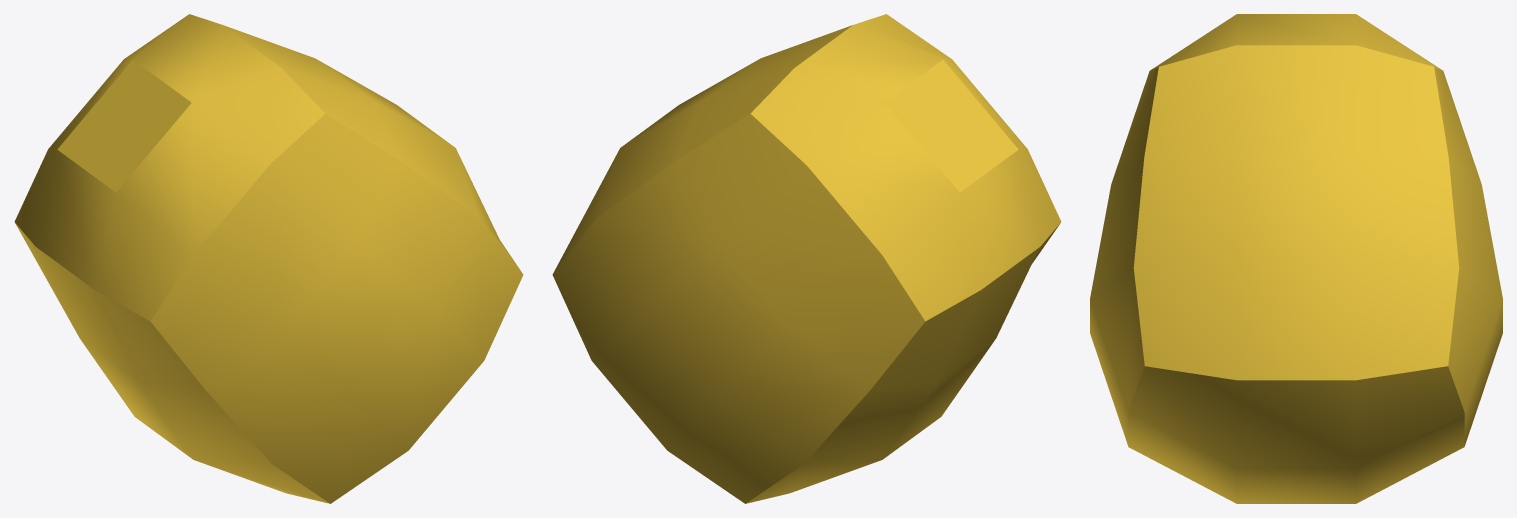
Rendered from Corn.fbx.
The picture shows the model from 3 angles, left to right: view 1: azimuth 30°, elevation 25°; view 2: azimuth 150°, elevation 25°; view 3: azimuth 270°, elevation 25°; orthographic projection.
Visible parts, largest first — view 1: Cylinder; view 2: Cylinder; view 3: Cylinder.
Boxes of the visible parts, x1,y1,x2,y2 form: Cylinder: (14,14,523,503); Cylinder: (552,14,1061,503); Cylinder: (1090,14,1502,503).
Bounding box in the file's own units: 60.17 × 60.56 × 52.51.
